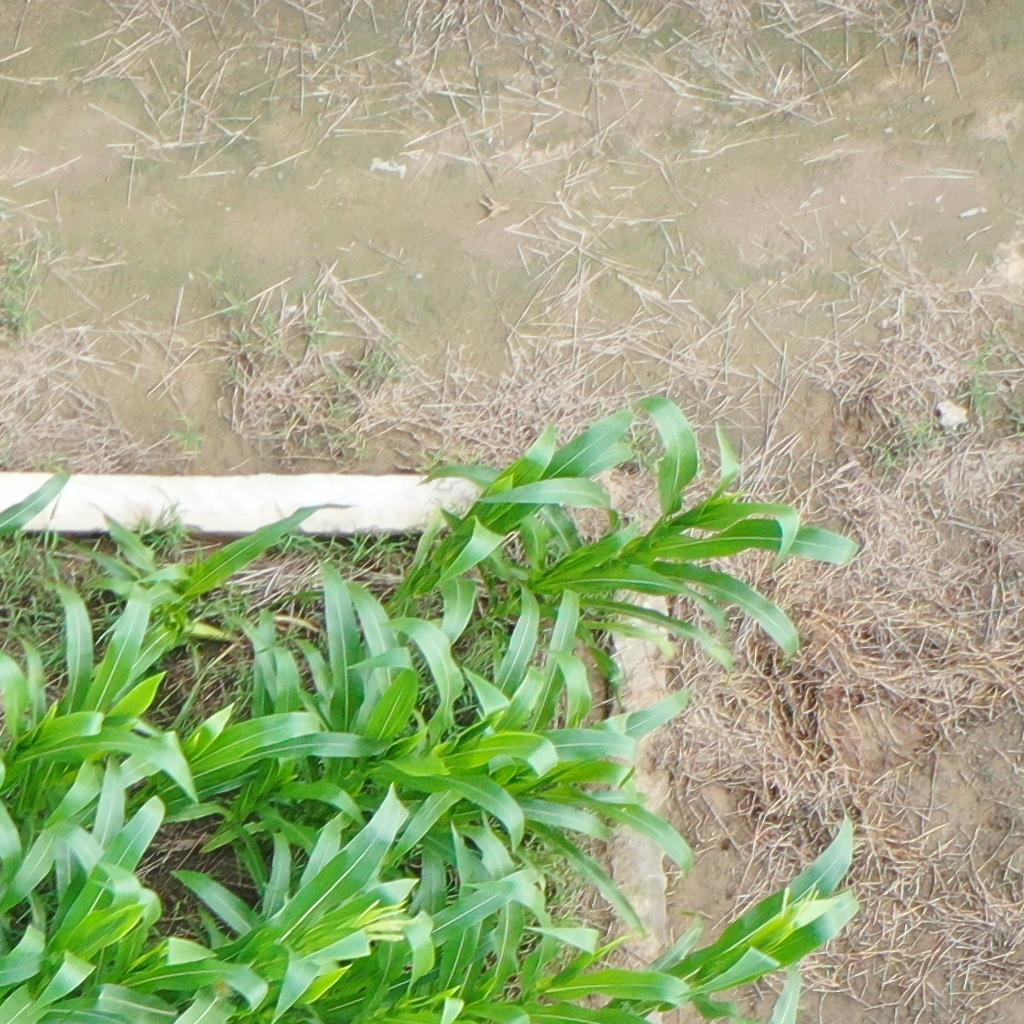Tassel: (348, 896, 417, 955), (767, 880, 822, 929)
